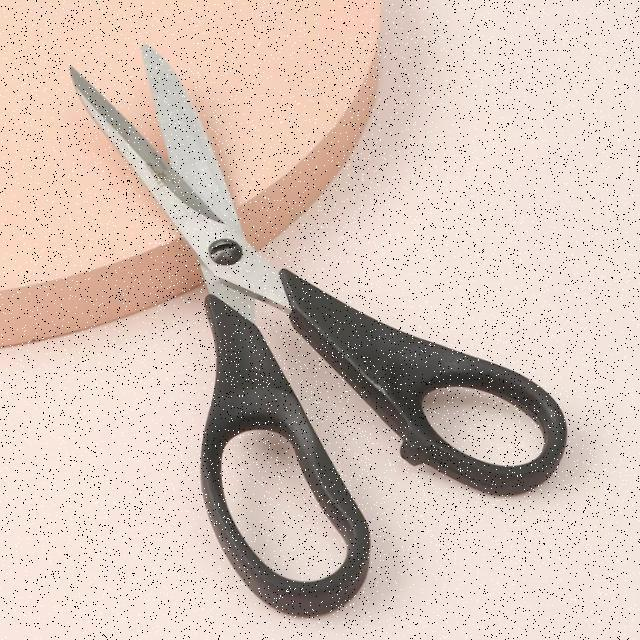scissors: (63, 41, 572, 624)
